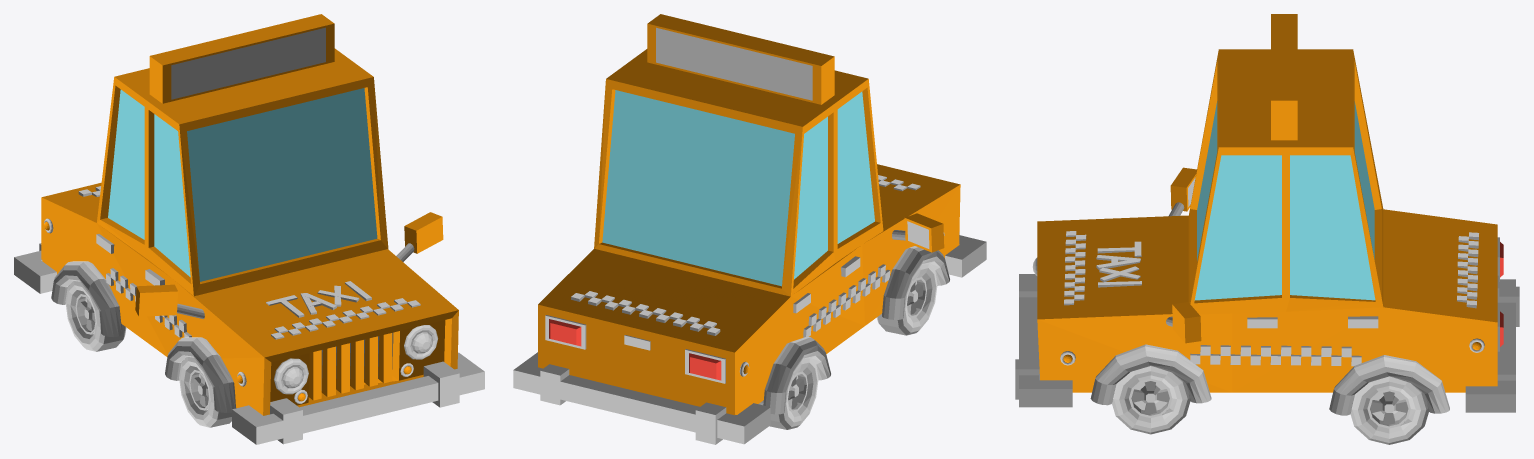
The model's file is taxi.obj.
3 renders of one model, left to right at view 1: azimuth 30°, elevation 25°; view 2: azimuth 150°, elevation 25°; view 3: azimuth 270°, elevation 25°, orthographic. The views are drawn at different scales.
Bounding box in the file's own units: 1.08 × 1.1 × 1.5.
